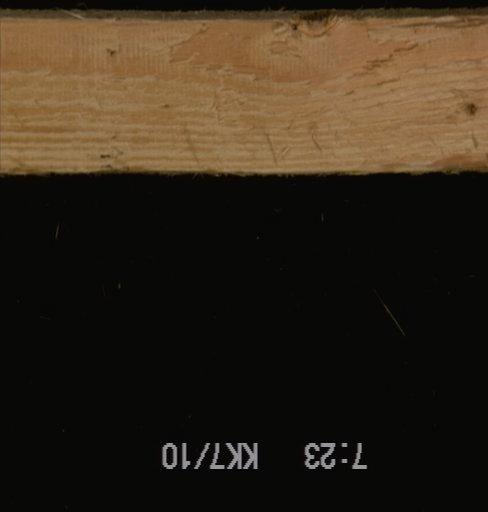edge_knot: (279, 11, 339, 45)
small_knot: (460, 97, 481, 123)
wave: (345, 8, 486, 36), (348, 153, 486, 173)
